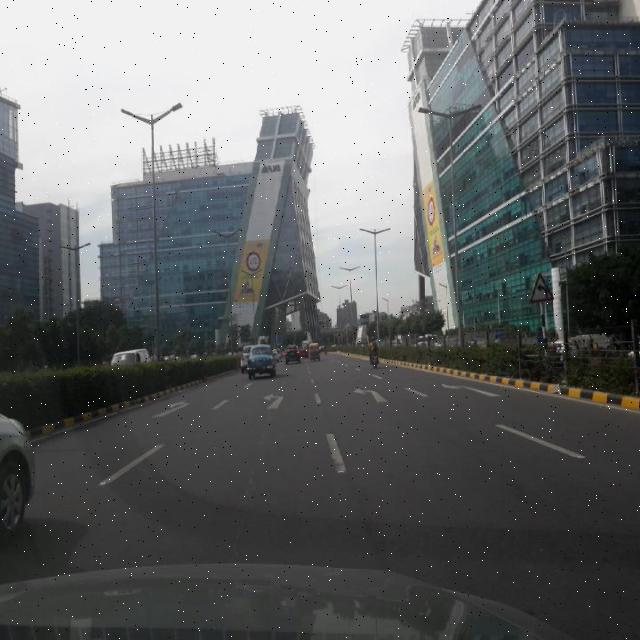D00: (222, 410, 273, 565)
